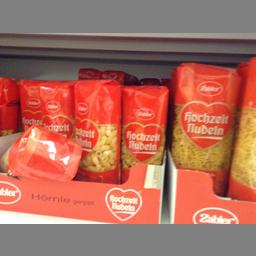pasta: (169, 62, 240, 196), (72, 79, 121, 183), (0, 121, 82, 183), (121, 81, 168, 186)
